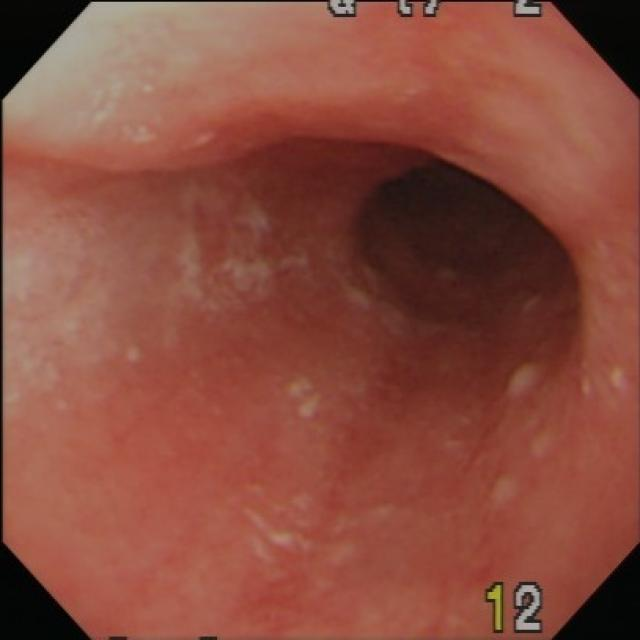E: (335, 131, 582, 352)
J: (4, 172, 319, 420), (488, 362, 627, 502), (229, 480, 397, 571), (75, 73, 219, 157)
S: (485, 581, 547, 636), (325, 3, 545, 18)
